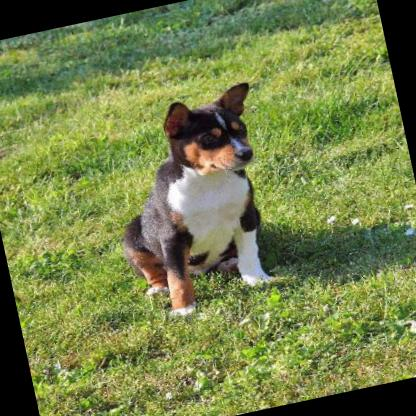basenji: (96, 81, 290, 325)
